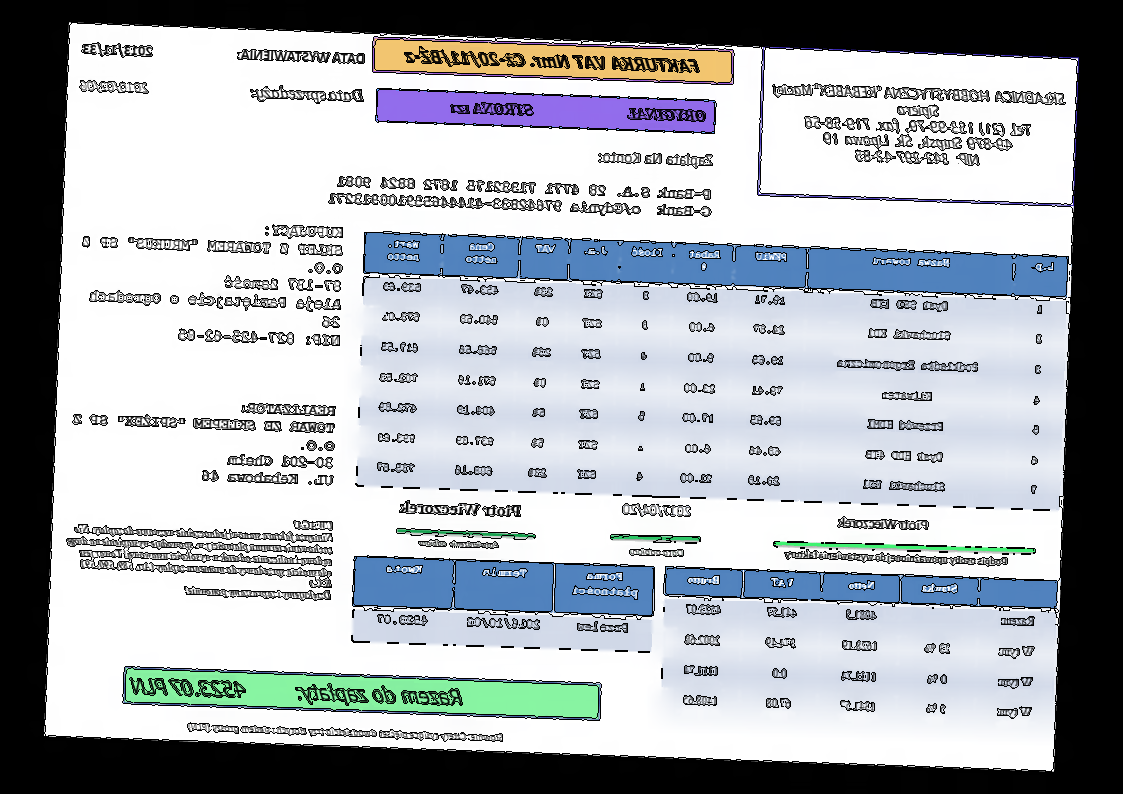Table: (354, 229, 1071, 513), (659, 564, 1060, 733), (350, 553, 657, 653)
TextBox: (74, 214, 347, 352), (766, 78, 1069, 173), (60, 507, 338, 605), (67, 393, 338, 490), (324, 172, 714, 222), (127, 673, 467, 709), (399, 43, 703, 79), (185, 719, 508, 745), (448, 96, 709, 125), (783, 546, 1010, 570), (245, 80, 367, 107), (235, 45, 367, 67), (594, 147, 716, 170), (398, 498, 524, 519), (833, 514, 933, 533), (622, 500, 694, 521), (78, 41, 156, 60), (76, 77, 153, 96), (418, 536, 501, 552), (628, 543, 687, 560)
